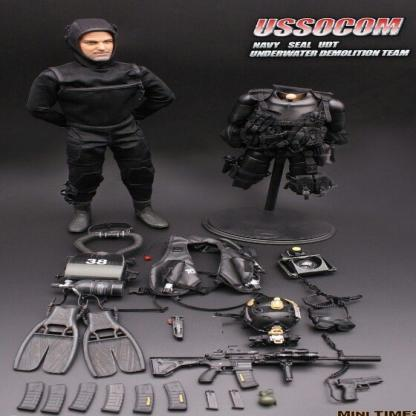Grenade: (258, 388, 280, 407)
Gun: (148, 346, 382, 391)
Pistol: (333, 376, 383, 404)
